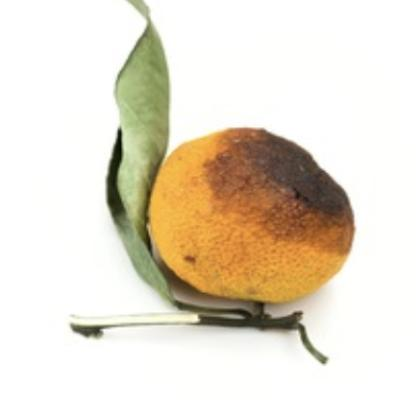rotten: (137, 109, 359, 342)
